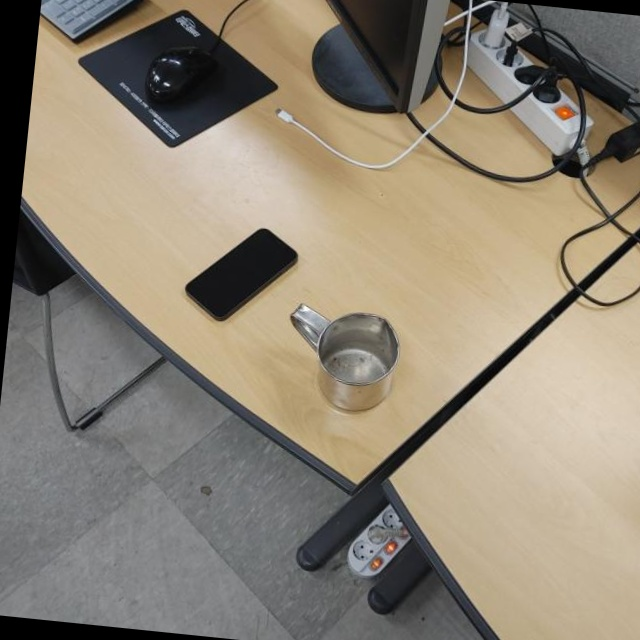cup: (280, 304, 403, 419)
phone: (182, 219, 302, 329)
